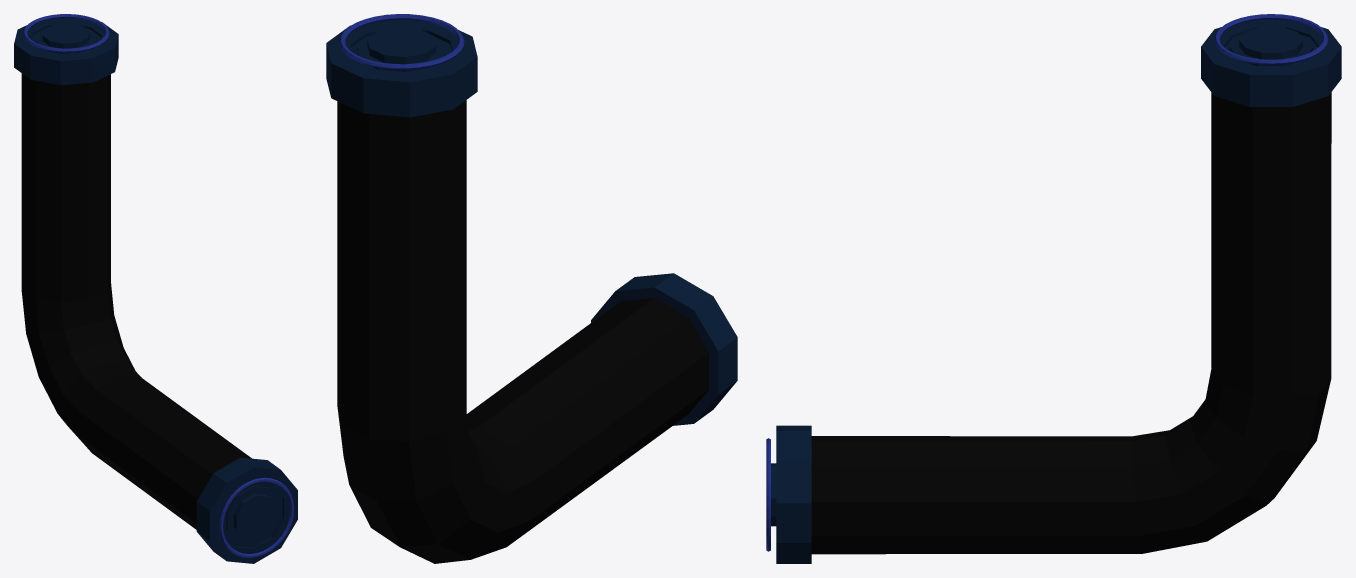
File: st3_pipe_L2.fbx
3 renders of one model, left to right at view 1: azimuth 30°, elevation 25°; view 2: azimuth 150°, elevation 25°; view 3: azimuth 270°, elevation 25°, orthographic. The views are drawn at different scales.
Parts seen in each view (by area): view 1: curve_LL, curve_LL_etc1, curve_LL_ring1; view 2: curve_LL, curve_LL_etc1, curve_LL_ring1; view 3: curve_LL, curve_LL_etc1, curve_LL_ring1.
Part boxes in pixels (x1=…): curve_LL: x1=21, y1=73, x2=251, y2=529; curve_LL_etc1: x1=14, y1=18, x2=297, y2=563; curve_LL_ring1: x1=23, y1=14, x2=294, y2=557; curve_LL: x1=337, y1=100, x2=708, y2=563; curve_LL_etc1: x1=326, y1=20, x2=737, y2=425; curve_LL_ring1: x1=339, y1=14, x2=464, y2=69; curve_LL: x1=811, y1=92, x2=1331, y2=554; curve_LL_etc1: x1=771, y1=19, x2=1341, y2=563; curve_LL_ring1: x1=766, y1=14, x2=1328, y2=551.
Size of the model in its own units: 100 by 430 by 430.
